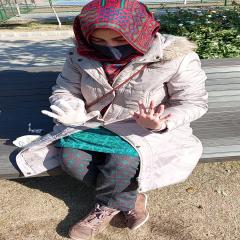gloved: (43, 103, 101, 126)
not-gloved: (130, 102, 174, 132)
